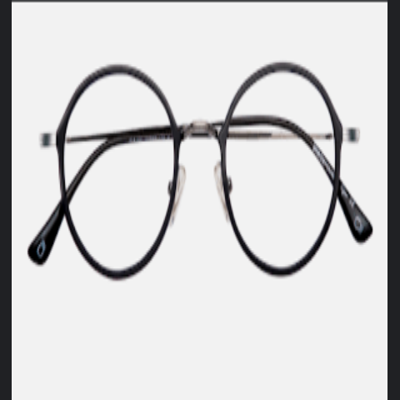glasses: (25, 56, 375, 281)
